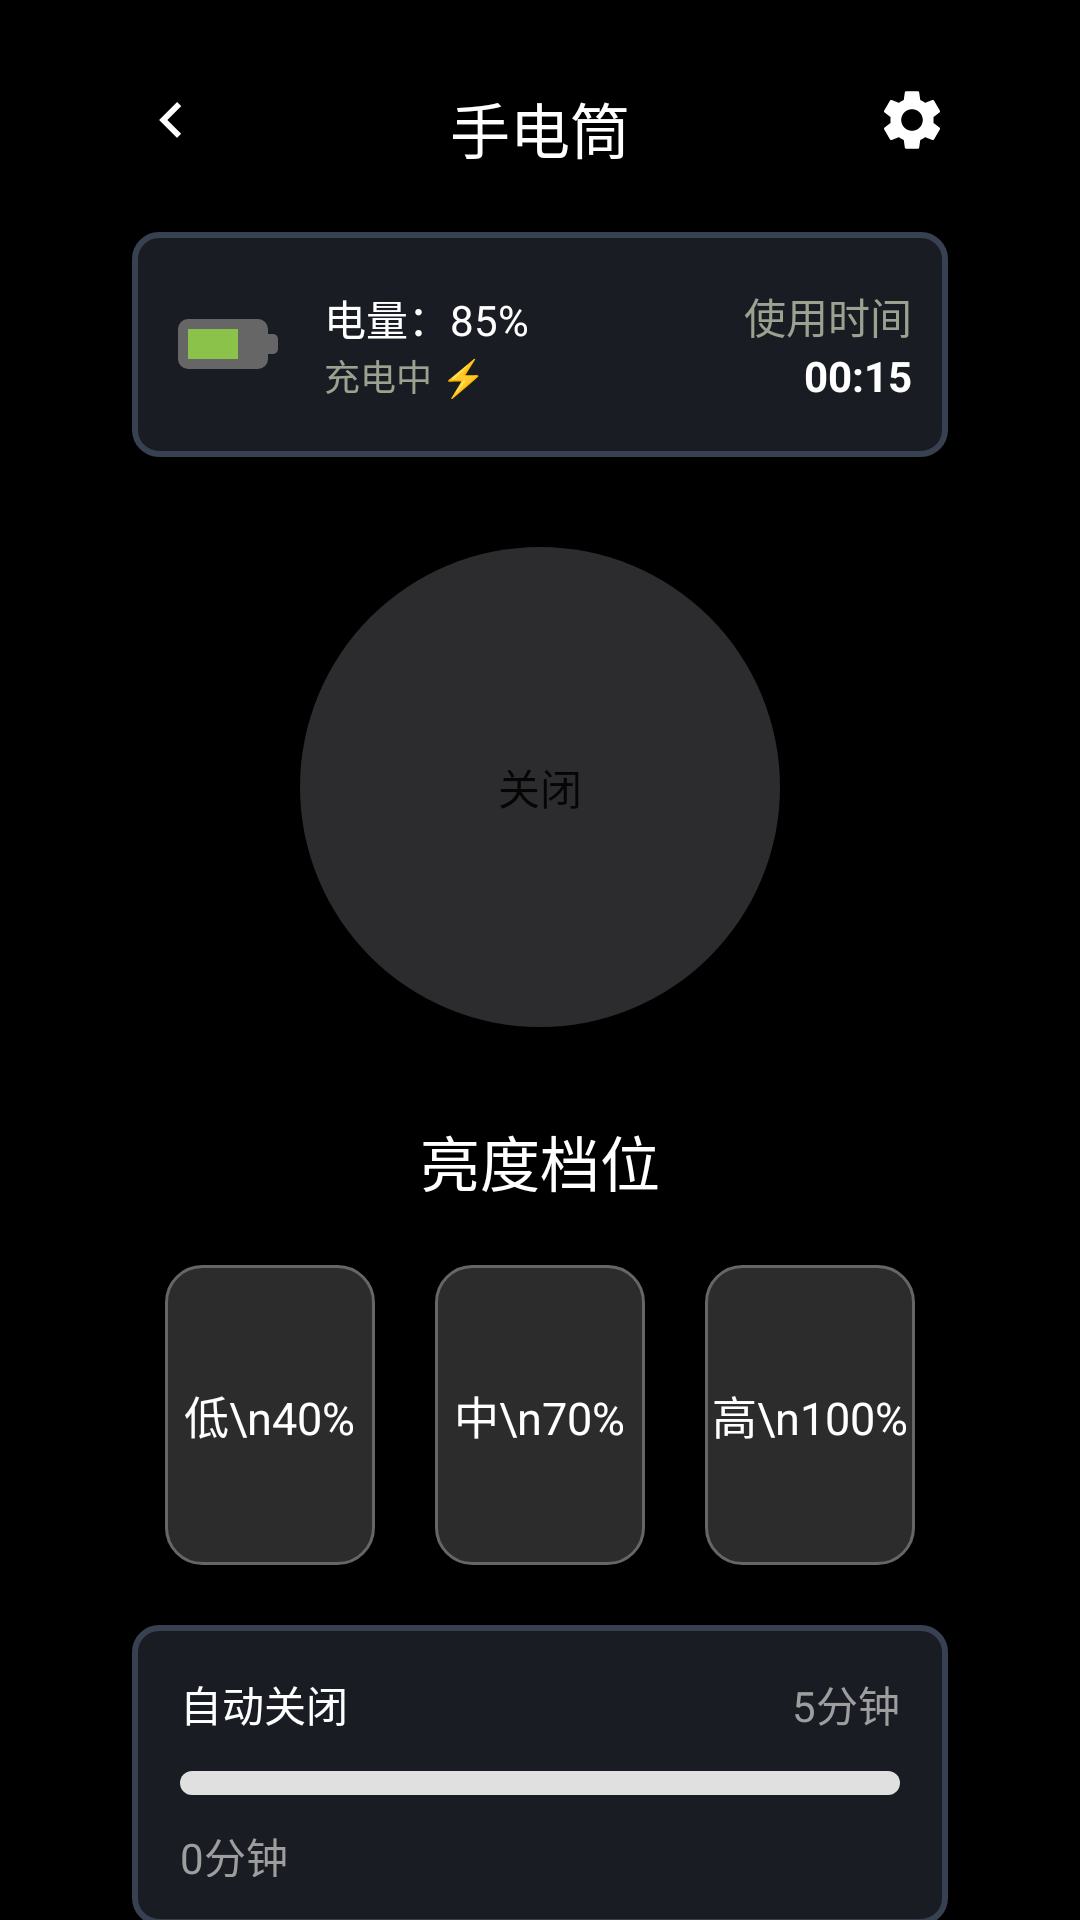

Icon click points for this 1080x1920 phone screenshot, format (x=x, y=y):
battery: (x=228, y=344)
设置: (x=912, y=120)
返回: (x=170, y=120)
